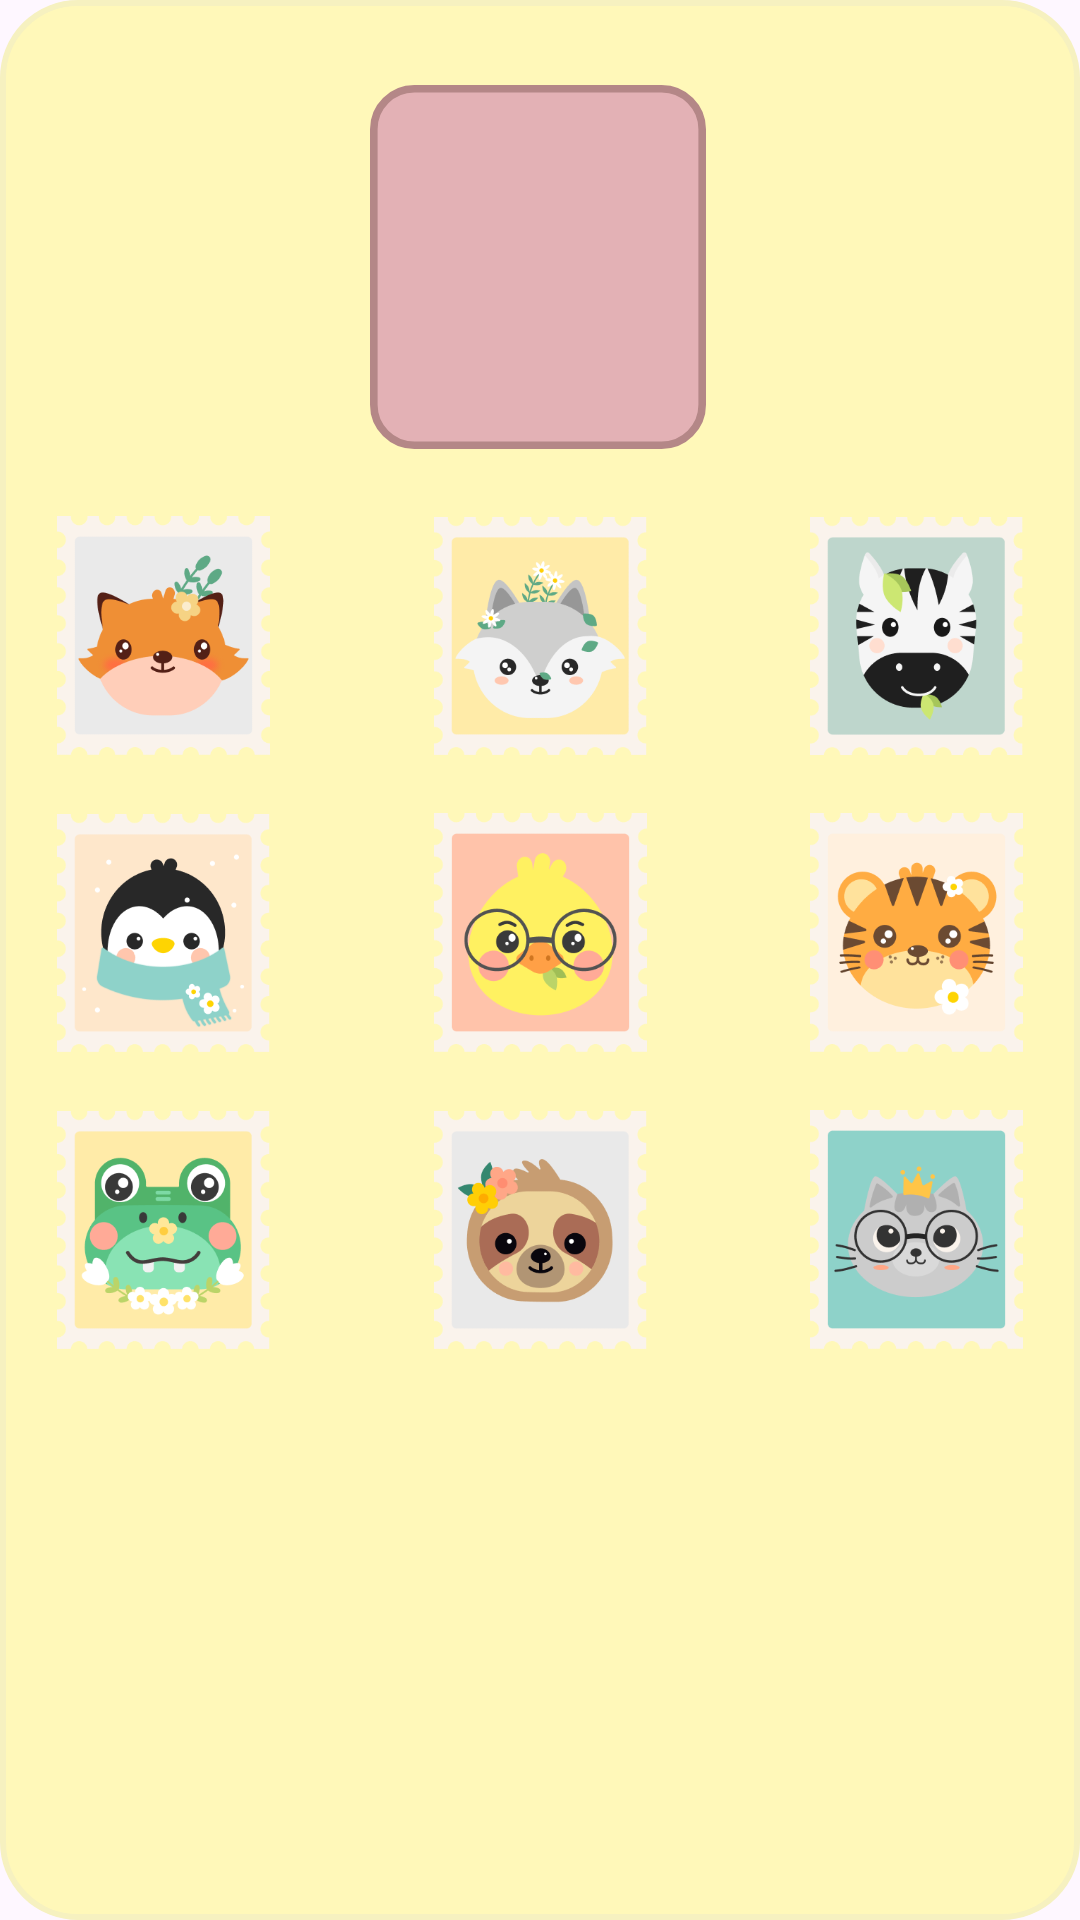

Named icons in this screenshot (1080 × 1920) and their bounding boxes, box=[x1, y1, x2, y2]:
Cat Profile Picture Option: box=[810, 1110, 1023, 1349]
Crocodile Profile Picture Option: box=[57, 1111, 269, 1349]
Duck Profile Picture Option: box=[434, 813, 647, 1052]
Fox Profile Picture Option: box=[57, 516, 270, 755]
Penguin Profile Picture Option: box=[57, 814, 269, 1052]
Sloth Profile Picture Option: box=[434, 1111, 646, 1349]
Tiger Profile Picture Option: box=[810, 813, 1023, 1052]
Wolf Profile Picture Option: box=[434, 517, 646, 755]
Zebra Profile Picture Option: box=[810, 517, 1022, 755]
